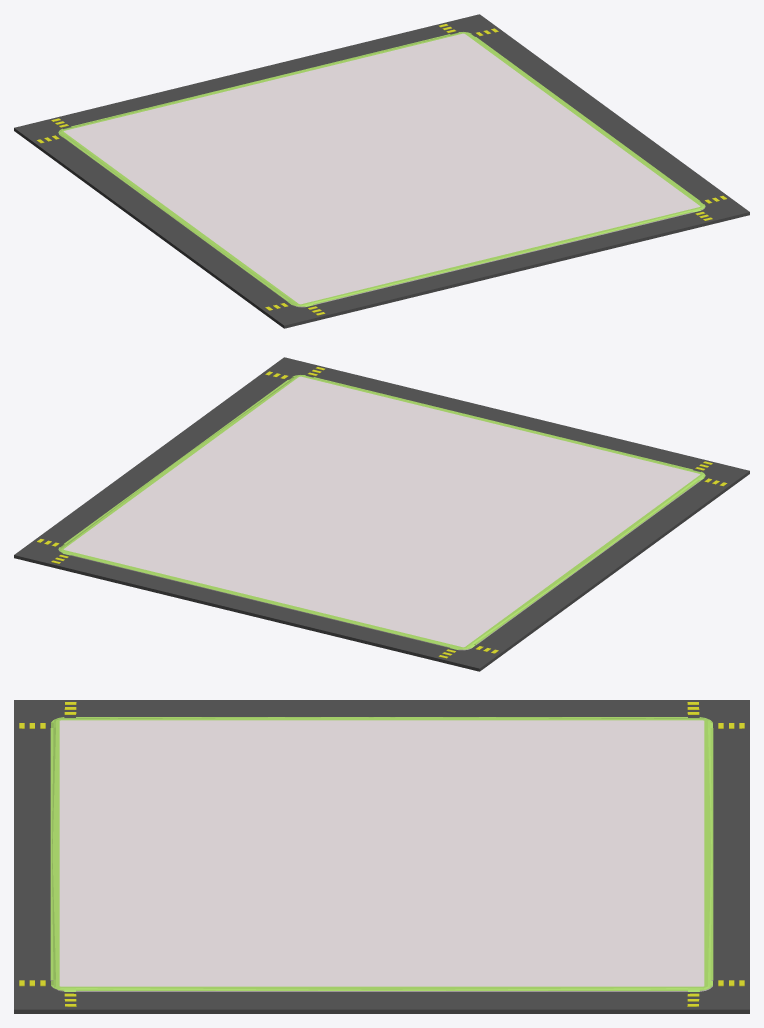
Rendered from StreetLand.fbx.
The picture shows the model from 3 angles, top to bottom: view 1: azimuth 30°, elevation 25°; view 2: azimuth 150°, elevation 25°; view 3: azimuth 270°, elevation 25°; orthographic projection. The views are drawn at different scales.
Parts seen in each view (by area): view 1: Cube; view 2: Cube; view 3: Cube.
Boxes of the visible parts, bbox=[...] form: Cube: bbox=[14, 14, 749, 328]; Cube: bbox=[14, 357, 749, 671]; Cube: bbox=[14, 700, 749, 1013].
Size of the model in its own units: 27297 by 230 by 27438.
